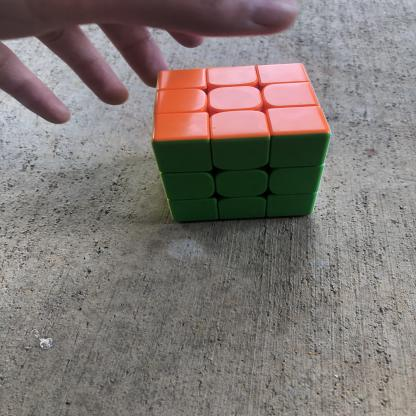SolvedCube: (144, 51, 340, 229)
